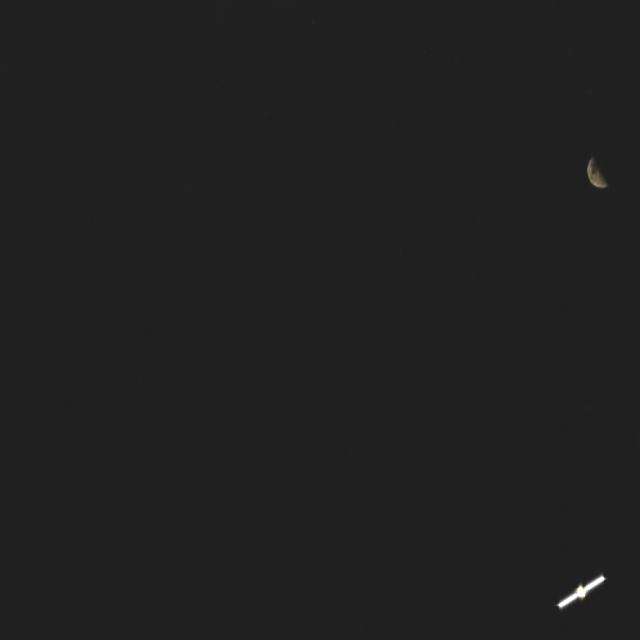satellite: (546, 568, 617, 614)
